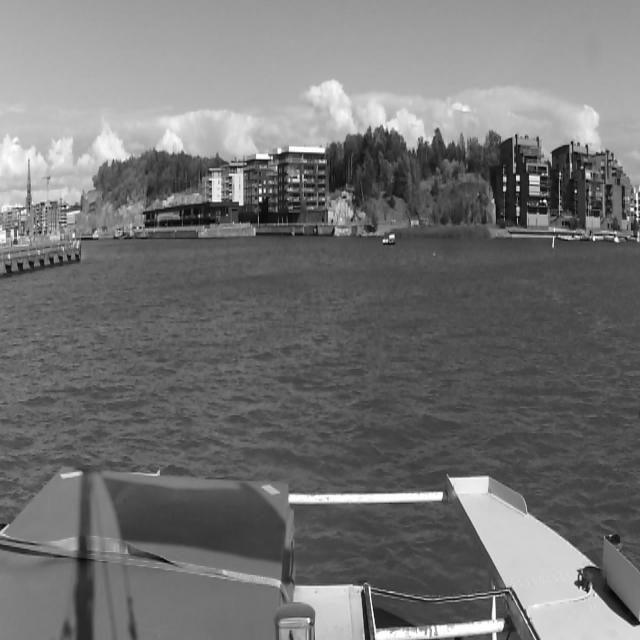buoy: (550, 227, 556, 250)
ship: (136, 222, 150, 241), (124, 222, 136, 241), (382, 231, 396, 246), (112, 229, 121, 239)
